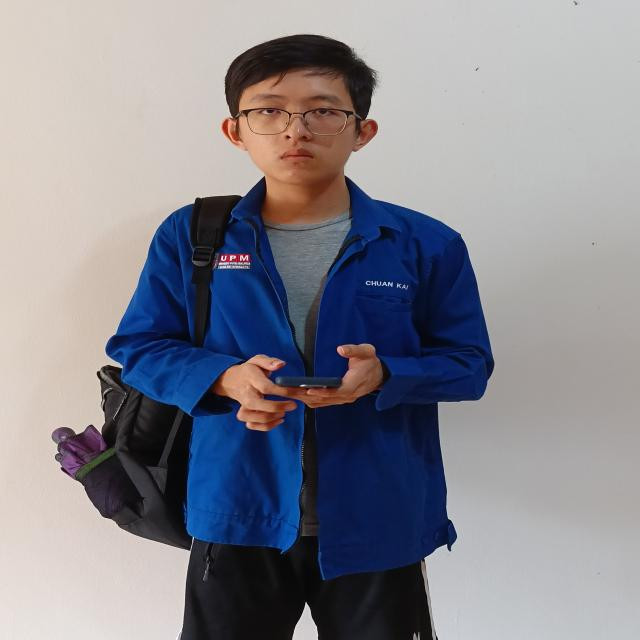person_with_labcoat: (53, 35, 494, 640)
